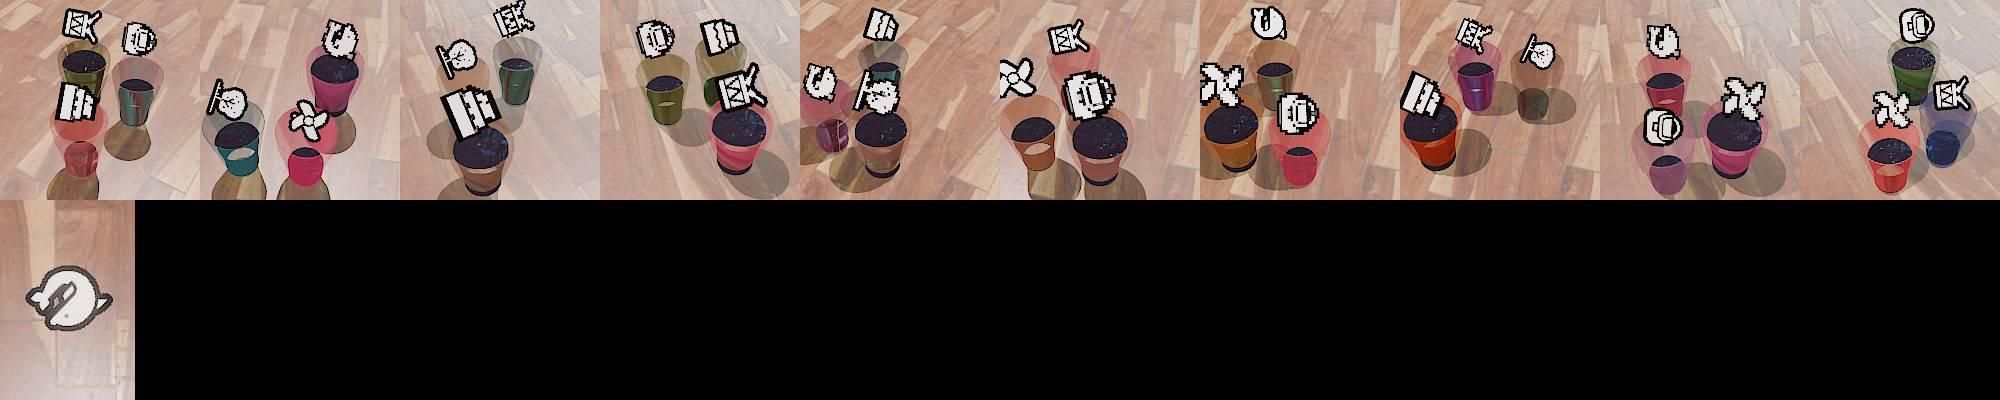icon: (24, 265, 116, 332), (440, 85, 501, 140), (1060, 70, 1117, 122), (709, 61, 765, 113), (1401, 70, 1445, 120), (1719, 75, 1767, 121), (1199, 61, 1244, 107), (1276, 92, 1320, 136), (54, 80, 99, 124), (287, 96, 330, 141), (853, 74, 901, 116), (434, 38, 480, 80), (205, 78, 249, 121), (634, 18, 677, 60), (1871, 88, 1913, 130), (997, 56, 1038, 99), (491, 0, 534, 39), (700, 17, 741, 57), (1047, 17, 1091, 55), (320, 19, 358, 61), (1644, 107, 1684, 146), (1455, 15, 1494, 55), (802, 62, 839, 103), (1519, 33, 1557, 71), (1932, 75, 1972, 112), (1250, 5, 1288, 42), (62, 8, 102, 43), (1645, 22, 1681, 61), (1899, 8, 1935, 45), (864, 8, 899, 43), (121, 22, 157, 57)
